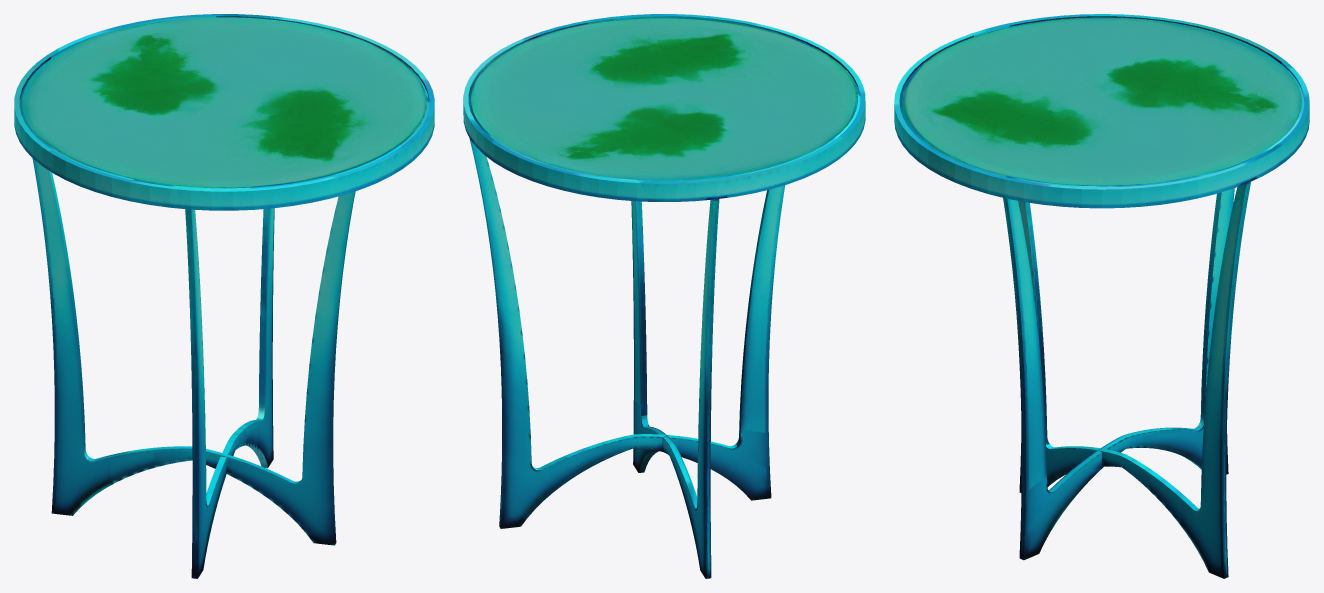
File: edited_mesh.glb
3 views of the same model, side by side, from view 1: azimuth 30°, elevation 25°; view 2: azimuth 150°, elevation 25°; view 3: azimuth 270°, elevation 25° (orthographic). The views are drawn at different scales.
Parts seen in each view (by area): view 1: solid_001_wire; view 2: solid_001_wire; view 3: solid_001_wire.
Part boxes in pixels (left/top/right/bottom): solid_001_wire: left=14, top=14, right=434, bottom=578; solid_001_wire: left=463, top=14, right=865, bottom=578; solid_001_wire: left=894, top=14, right=1309, bottom=578.
Size of the model in its own units: 1.23 by 1.38 by 1.23.
Materials: 1 (1 with a texture image).
